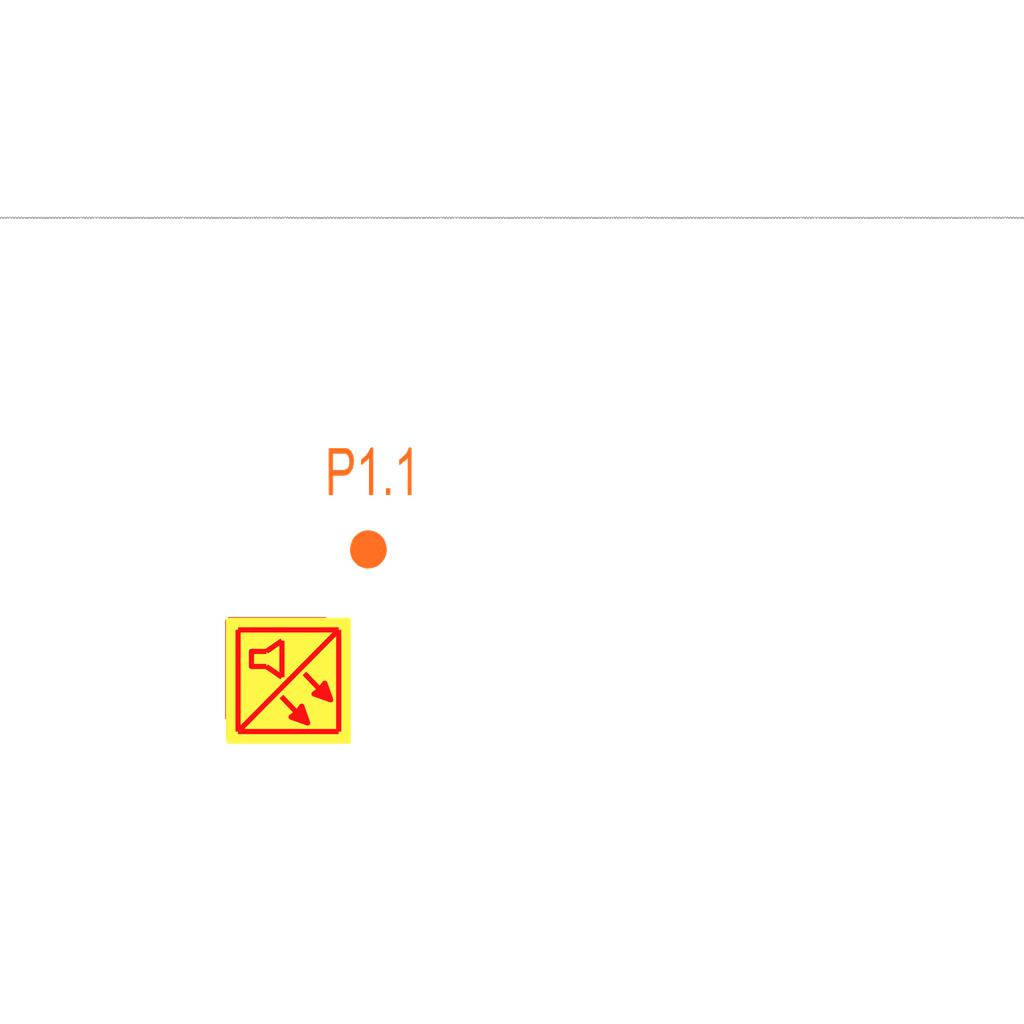Downlight_LED_Einbauleuchten_Flur: (325, 444, 418, 572)
OKW_Multisensormelder_(Kombination_optischer_Rauch-Kahlenmonoxid_Waerme-Melder): (222, 615, 354, 747)
